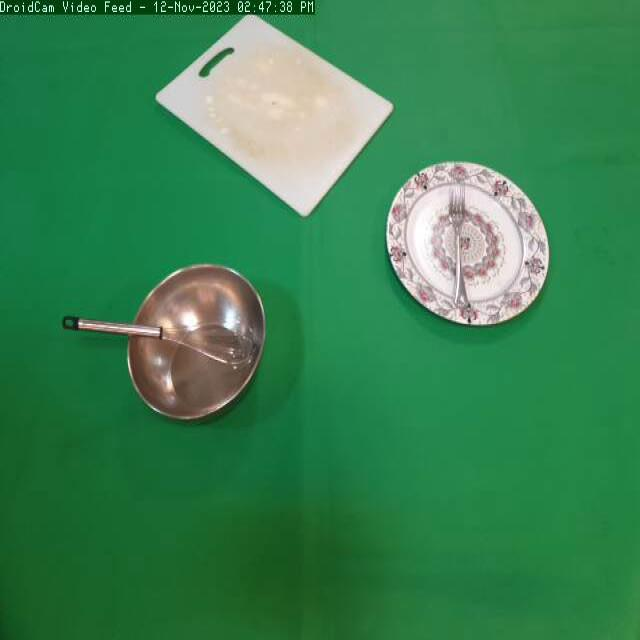bowl: (128, 258, 272, 425)
cutting board: (155, 7, 407, 225)
fork: (62, 307, 258, 380), (442, 178, 481, 317)
plate: (383, 160, 555, 347)
